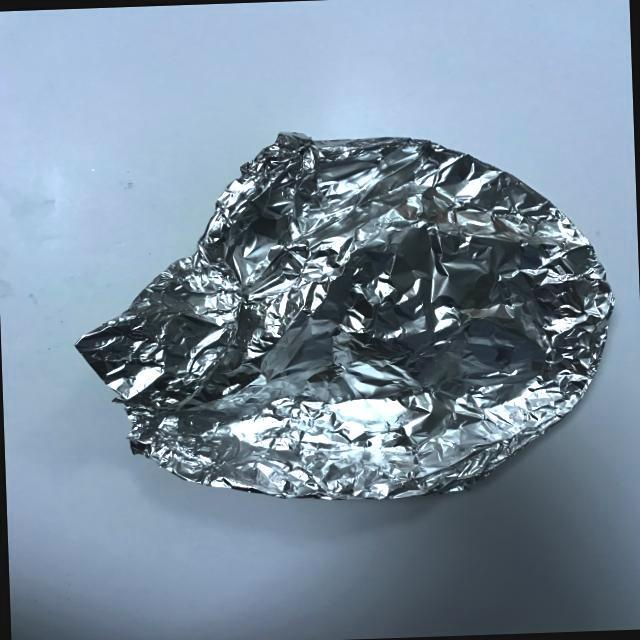metal: (57, 92, 640, 536)
